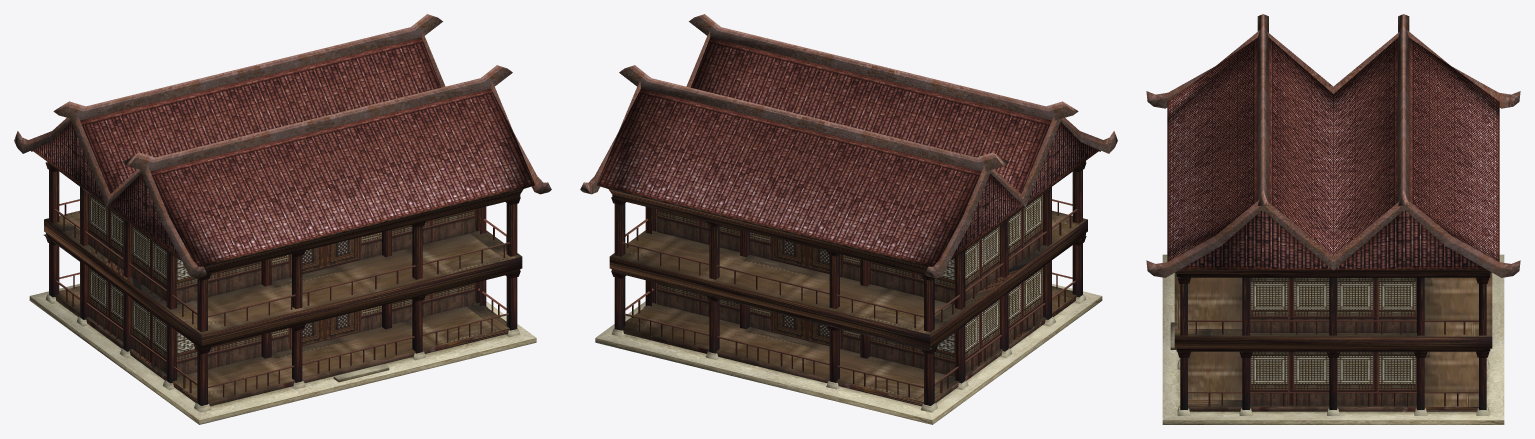
File: a1-033-guesthouse-01_lod_01.fbx
3 renders of one model, left to right at view 1: azimuth 30°, elevation 25°; view 2: azimuth 150°, elevation 25°; view 3: azimuth 270°, elevation 25°, orthographic.
Visible parts, largest first — view 1: a1-033-guesthouse-01, a1-033-guesthouse-02; view 2: a1-033-guesthouse-01, a1-033-guesthouse-02; view 3: a1-033-guesthouse-01, a1-033-guesthouse-02.
Part boxes in pixels (x1,y1,x2,y2): a1-033-guesthouse-01: [14, 14, 551, 412]; a1-033-guesthouse-02: [29, 164, 536, 424]; a1-033-guesthouse-01: [580, 14, 1117, 412]; a1-033-guesthouse-02: [595, 164, 1102, 424]; a1-033-guesthouse-01: [1146, 14, 1520, 415]; a1-033-guesthouse-02: [1162, 254, 1504, 424].
Bounding box in the file's own units: 21.33 × 12.64 × 17.86.
